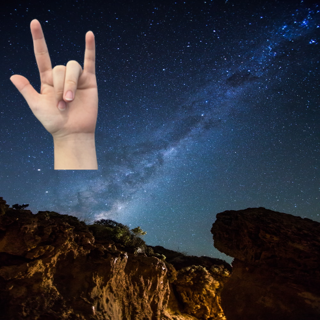ILY: (5, 13, 109, 140)
